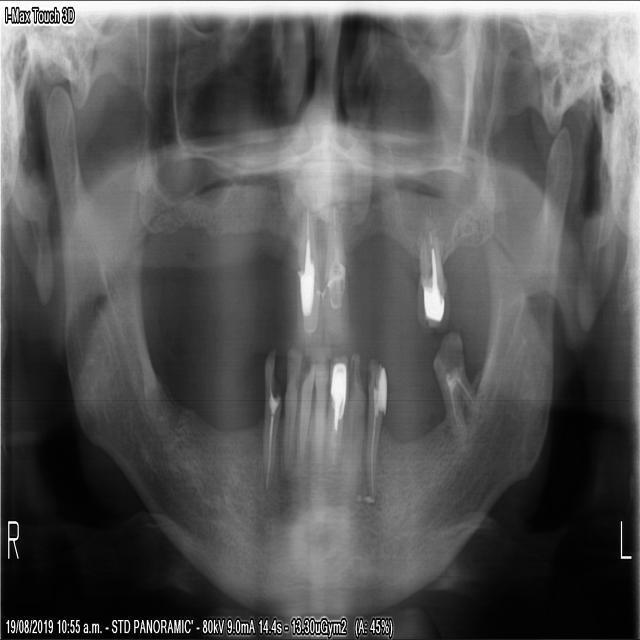LCD: (344, 345, 366, 486)
LID: (323, 346, 349, 475), (311, 351, 328, 473)
LIU: (319, 197, 350, 345)
LMD: (427, 325, 480, 451)
LMU: (413, 211, 451, 335)
LPMD: (361, 351, 387, 502)
RCD: (258, 342, 281, 492)
RID: (278, 340, 303, 475), (293, 352, 315, 473)
RIU: (291, 194, 320, 339)
